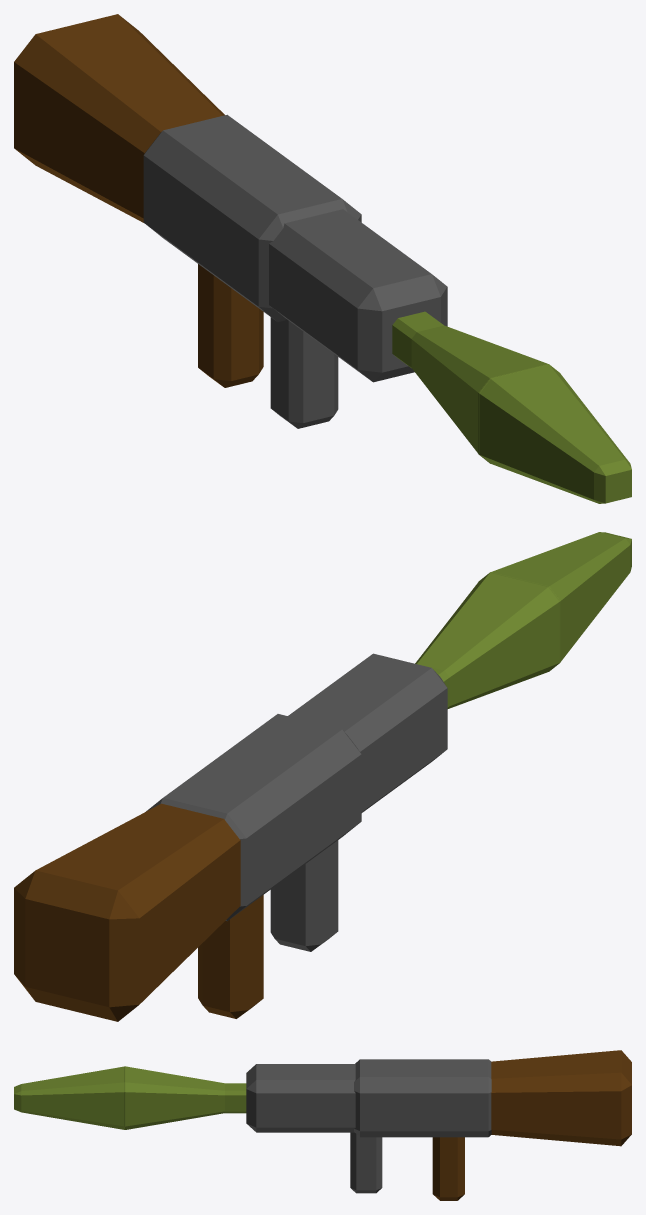
File: bazooka.fbx
3 views of the same model, one above another, from view 1: azimuth 30°, elevation 25°; view 2: azimuth 150°, elevation 25°; view 3: azimuth 270°, elevation 25° (orthographic). The views are drawn at different scales.
Parts seen in each view (by area): view 1: Cube_4, Cube, Cube_6, Cube_5, Cube_4_2, Cube_2, Cube_1, Cube_3; view 2: Cube_4, Cube, Cube_6, Cube_4_2, Cube_5, Cube_2, Cube_1; view 3: Cube_4, Cube, Cube_6, Cube_5, Cube_4_2, Cube_2, Cube_1, Cube_3.
Part boxes in pixels (box(x1,y1,x2,y2)): Cube_4: box(14, 14, 224, 222); Cube: box(143, 114, 361, 321); Cube_6: box(269, 209, 447, 382); Cube_5: box(478, 364, 631, 503); Cube_4_2: box(411, 325, 560, 463); Cube_2: box(198, 264, 263, 387); Cube_1: box(270, 317, 338, 428); Cube_3: box(392, 311, 443, 367); Cube_4: box(14, 803, 240, 1021); Cube: box(146, 714, 361, 921); Cube_6: box(288, 653, 447, 812); Cube_4_2: box(415, 572, 560, 708); Cube_5: box(478, 532, 631, 671); Cube_2: box(198, 895, 263, 1018); Cube_1: box(270, 840, 338, 951); Cube_4: box(491, 1050, 631, 1146); Cube: box(354, 1059, 491, 1137); Cube_6: box(246, 1064, 355, 1132); Cube_5: box(14, 1066, 125, 1129); Cube_4_2: box(124, 1066, 224, 1129); Cube_2: box(432, 1137, 464, 1200); Cube_1: box(350, 1132, 382, 1193); Cube_3: box(225, 1083, 246, 1113).
Bounding box in the file's own units: 208 × 383 × 1579.
